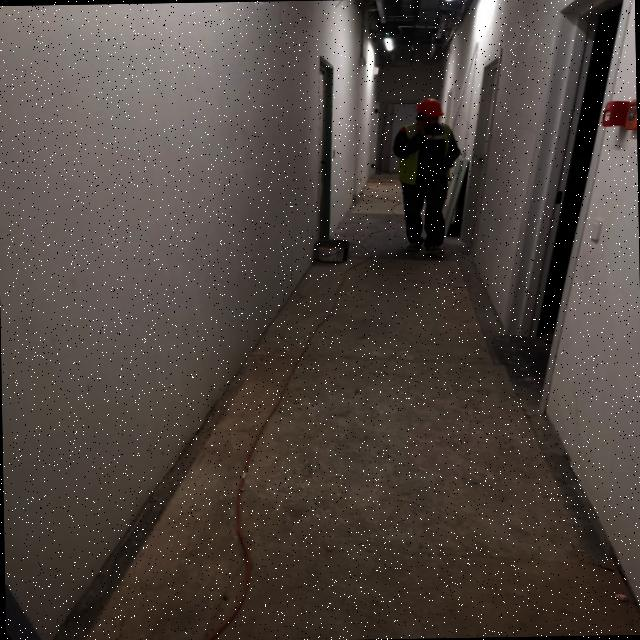Helmet: (416, 99, 449, 130)
